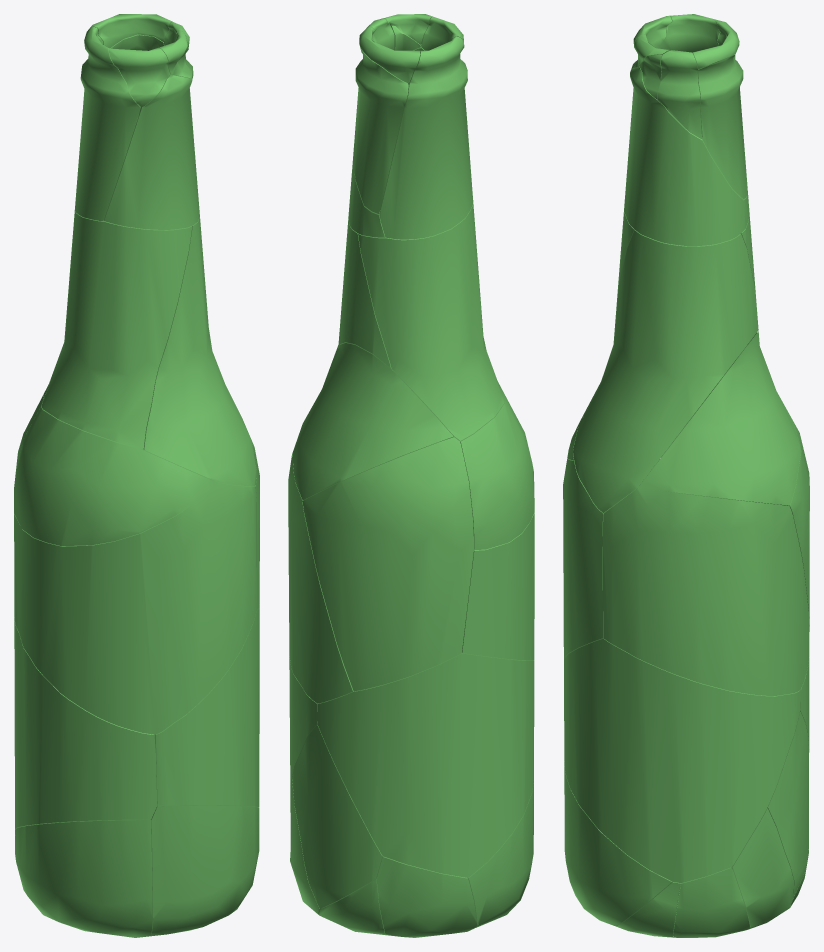
Rendered from ShardsGlassBottle3.fbx.
3 views of the same model, side by side, from view 1: azimuth 30°, elevation 25°; view 2: azimuth 150°, elevation 25°; view 3: azimuth 270°, elevation 25° (orthographic).
Parts seen in each view (by area): view 1: Circle_cell.003, Circle_cell.022, Circle_cell.006, Circle_cell.013, Circle_cell.001, Circle_cell.019, Circle_cell.014, Circle_cell.021, Circle_cell.018, Circle_cell.024, Circle_cell.005, Circle_cell.020 (+3 smaller); view 2: Circle_cell.013, Circle_cell.011, Circle_cell.022, Circle_cell.012, Circle_cell.024, Circle_cell.008, Circle_cell.003, Circle_cell.006, Circle_cell.023, Circle_cell.015, Circle_cell.016, Circle_cell.019 (+9 smaller); view 3: Circle_cell.014, Circle_cell.023, Circle_cell.001, Circle_cell.012, Circle_cell.018, Circle_cell.021, Circle_cell.003, Circle_cell.016, Circle_cell.002, Circle_cell.008, Circle_cell.007, Circle_cell.010 (+7 smaller).
Boxes of the visible parts, x1=… form: Circle_cell.003: x1=14, y1=480, x2=256, y2=734; Circle_cell.022: x1=41, y1=210, x2=192, y2=449; Circle_cell.006: x1=14, y1=406, x2=217, y2=545; Circle_cell.013: x1=14, y1=617, x2=157, y2=829; Circle_cell.001: x1=143, y1=214, x2=256, y2=486; Circle_cell.019: x1=15, y1=820, x2=152, y2=937; Circle_cell.014: x1=155, y1=604, x2=259, y2=807; Circle_cell.021: x1=151, y1=805, x2=259, y2=936; Circle_cell.018: x1=104, y1=74, x2=199, y2=229; Circle_cell.024: x1=75, y1=27, x2=140, y2=220; Circle_cell.005: x1=108, y1=47, x2=170, y2=107; Circle_cell.020: x1=90, y1=14, x2=172, y2=48; Circle_cell.013: x1=317, y1=653, x2=534, y2=877; Circle_cell.011: x1=302, y1=437, x2=473, y2=691; Circle_cell.022: x1=358, y1=200, x2=504, y2=440; Circle_cell.012: x1=292, y1=343, x2=453, y2=500; Circle_cell.024: x1=379, y1=36, x2=473, y2=239; Circle_cell.008: x1=292, y1=724, x2=382, y2=908; Circle_cell.003: x1=462, y1=513, x2=534, y2=660; Circle_cell.006: x1=459, y1=392, x2=534, y2=549; Circle_cell.023: x1=288, y1=450, x2=353, y2=703; Circle_cell.015: x1=376, y1=856, x2=477, y2=937; Circle_cell.016: x1=354, y1=45, x2=408, y2=213; Circle_cell.019: x1=468, y1=780, x2=533, y2=927; Circle_cell.014: x1=564, y1=638, x2=800, y2=882; Circle_cell.023: x1=602, y1=488, x2=809, y2=695; Circle_cell.001: x1=573, y1=230, x2=758, y2=512; Circle_cell.012: x1=638, y1=331, x2=800, y2=505; Circle_cell.018: x1=624, y1=66, x2=749, y2=246; Circle_cell.021: x1=564, y1=761, x2=671, y2=926; Circle_cell.003: x1=563, y1=458, x2=744, y2=659; Circle_cell.016: x1=697, y1=54, x2=747, y2=199; Circle_cell.002: x1=731, y1=808, x2=793, y2=928; Circle_cell.008: x1=767, y1=711, x2=809, y2=897; Circle_cell.007: x1=673, y1=867, x2=750, y2=937; Circle_cell.010: x1=657, y1=50, x2=701, y2=139.
Bounding box in the file's own units: 94.72 × 365 × 94.72.
